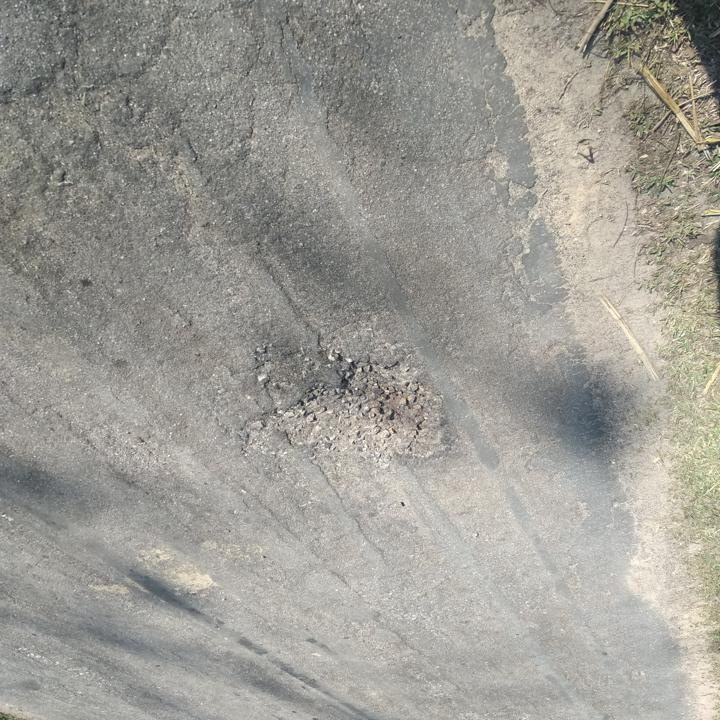pothole: (242, 354, 458, 469)
